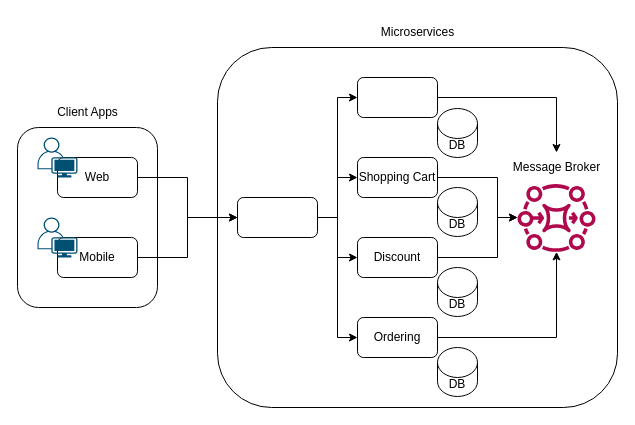
Image size: 635x425. Some labels were removed from this diagram. The box of each missing label's shape, as (x1, y1, x2, y2) in pixels:
API Gateway: (236, 196, 318, 238)
Catalog: (356, 76, 438, 118)
